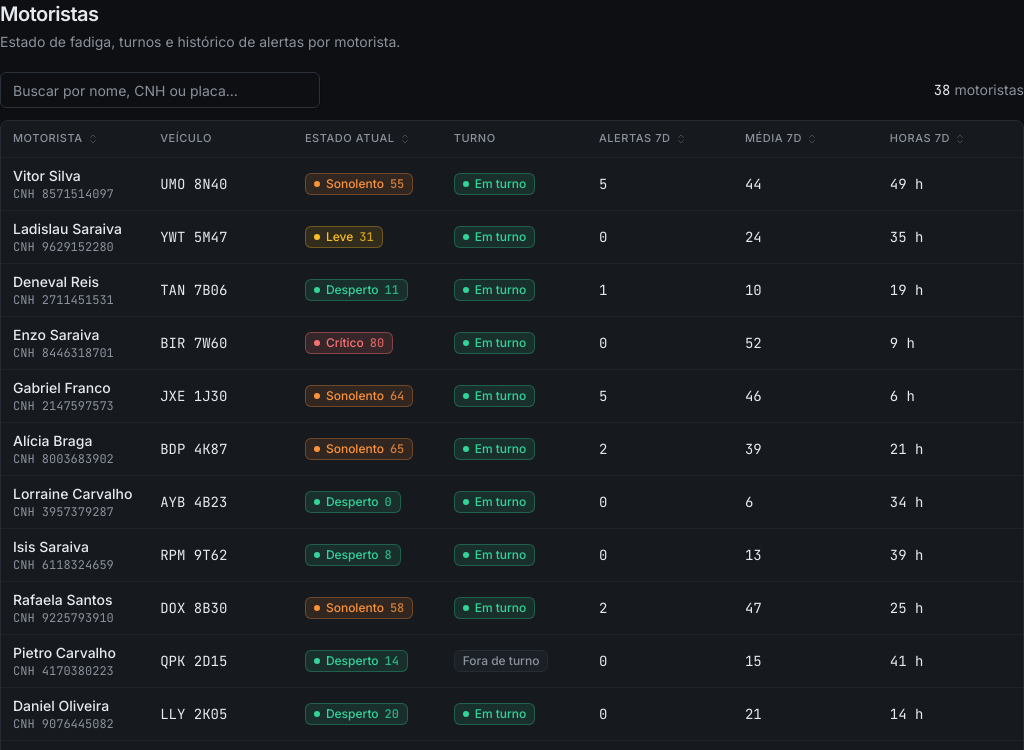
Drivers › filtra a lista pela busca
In the field with placeholder "Buscar por nome, CNH ou placa…": point(160, 90) [0,72,320,108], type "zzzznomatch"
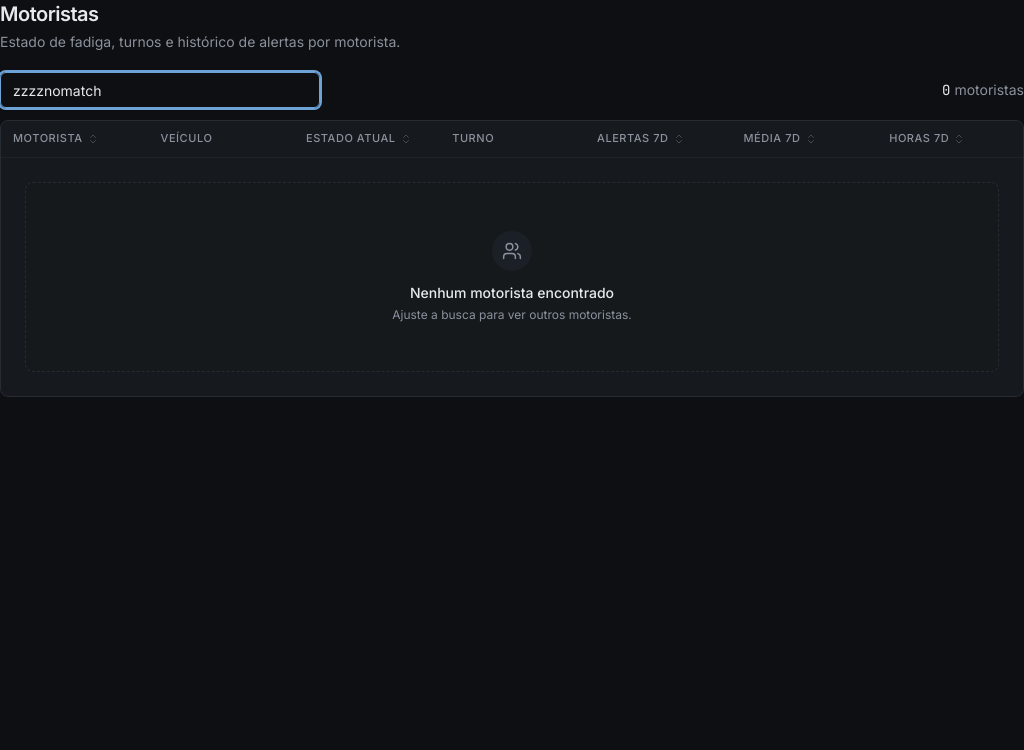
Check: the text "Nenhum motorista encontrado" is shown, box [410,282,614,302]
